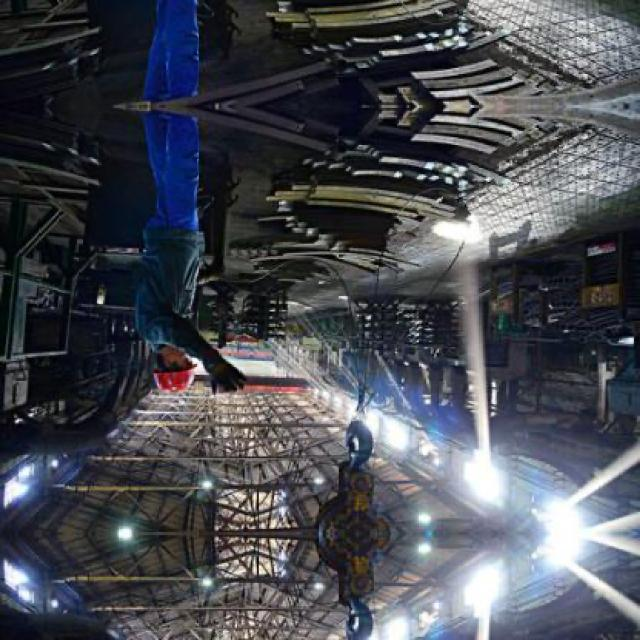con casco: (122, 299, 220, 404)
